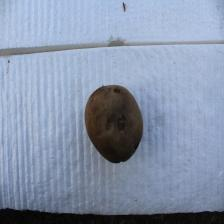Diseased-fungal potato: (83, 82, 146, 167)
